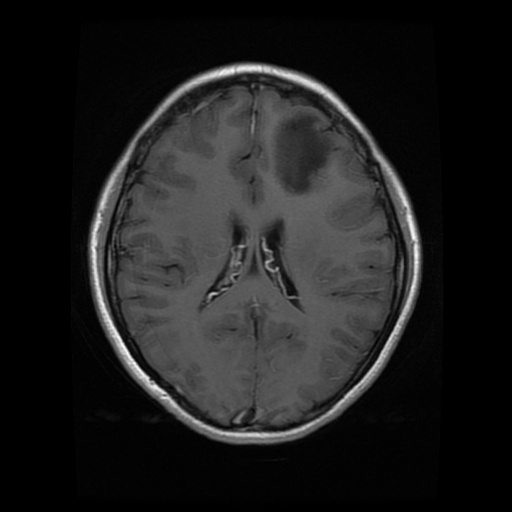glioma: (270, 108, 334, 198)
